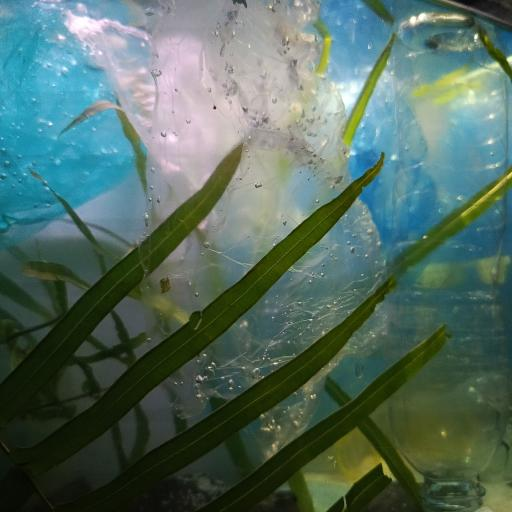plastic_bag: (61, 0, 390, 444), (308, 0, 512, 275), (1, 0, 193, 244)
plastic_bottle: (379, 0, 512, 512)
